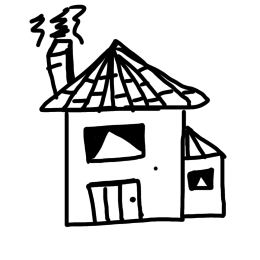door: (83, 175, 148, 229)
open_window: (75, 121, 154, 170), (184, 166, 220, 199)
roof: (34, 36, 216, 118)
smoking_chimney: (20, 0, 98, 96)
wall: (59, 100, 191, 231)
